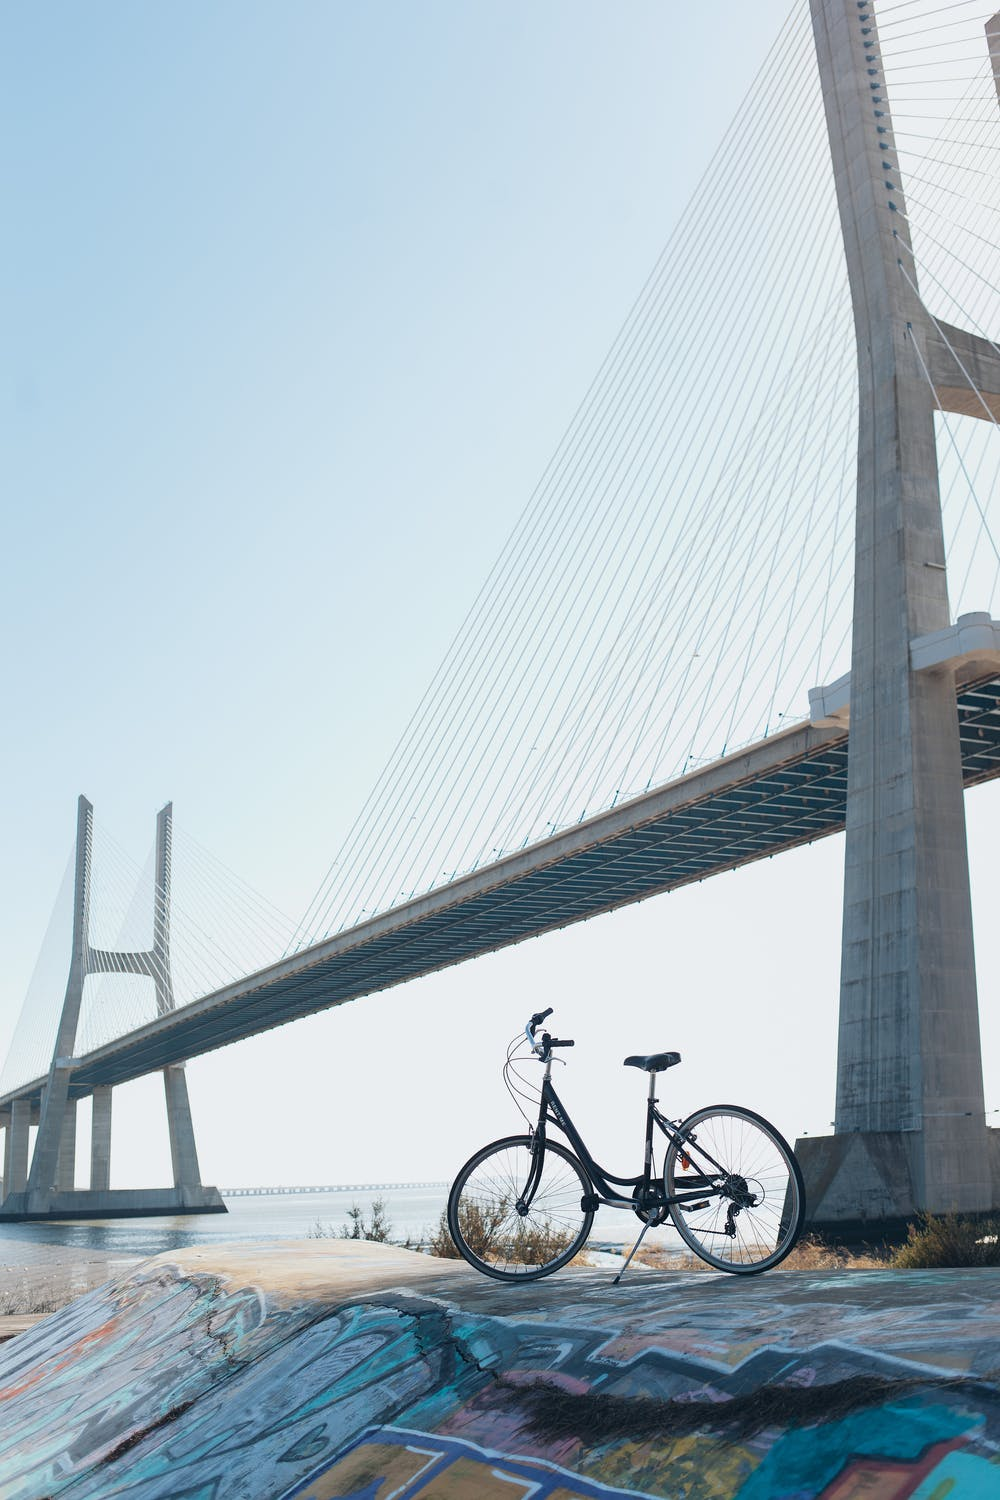bicycle: (434, 997, 812, 1292)
